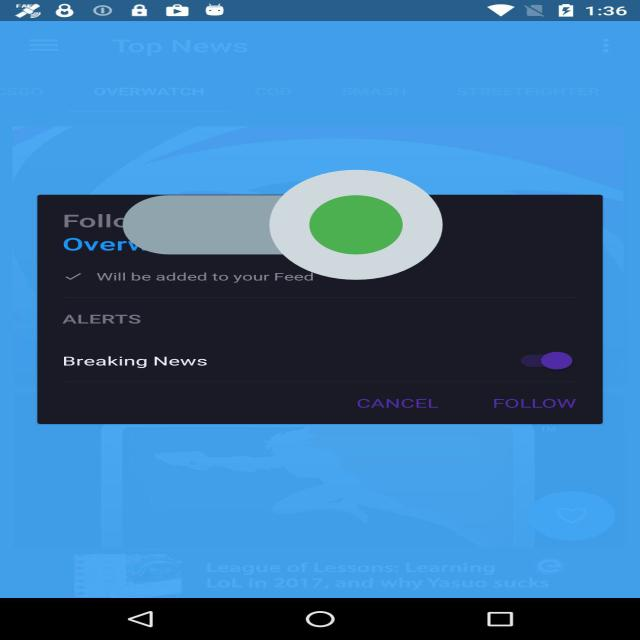social proof: (122, 124, 442, 326)
